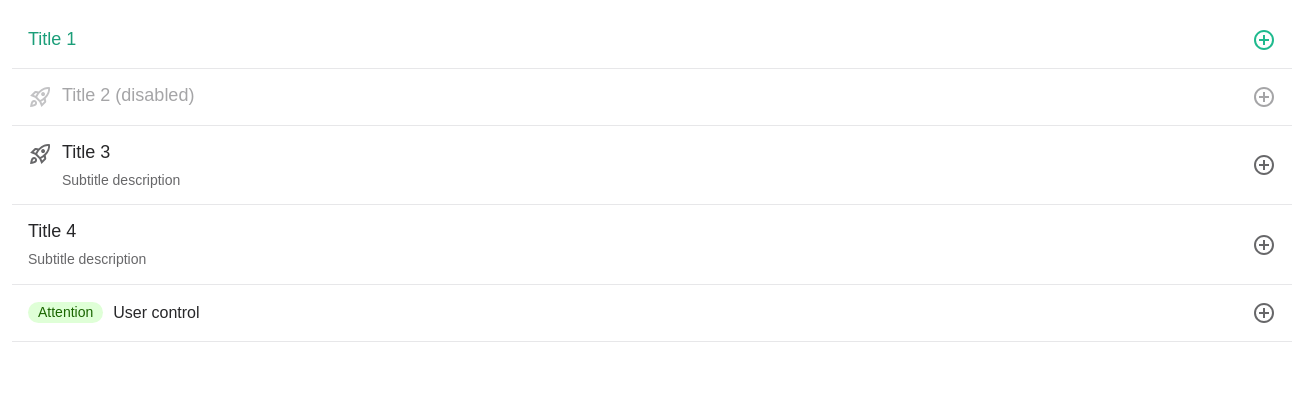
Test: variant openIcon closeIcon
The width and height of the screenshot is (1304, 412).
Expected: the number of icons with class "custom-open-icon" is 5, [1252,28,1276,52]; [1252,85,1276,109]; [1252,153,1276,177]; [1252,233,1276,257]; [1252,301,1276,325]
Click the button with class "easy_accordion-control" showing "Title 1" at point(52, 39), box [12,12,1292,68]
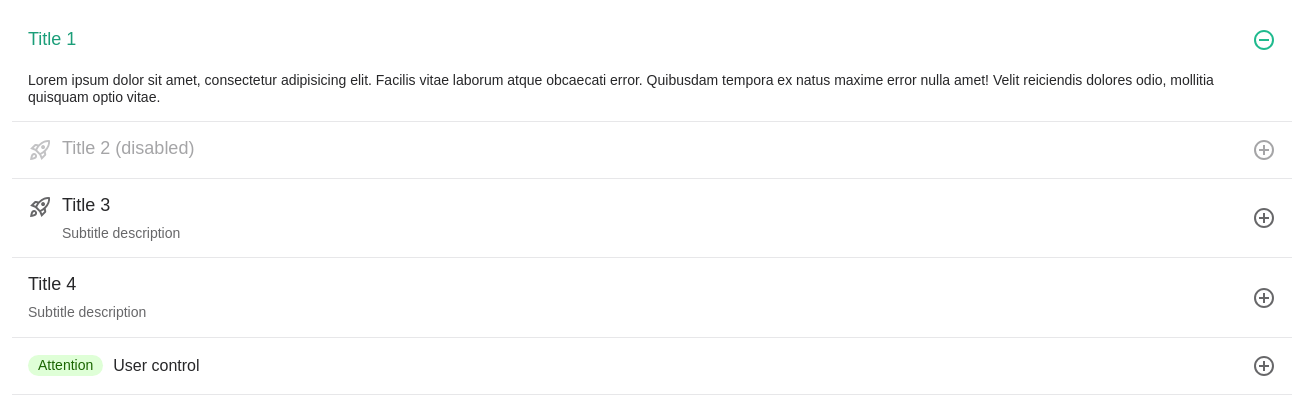
Now the icon with class "custom-close-icon" is shown, box [1252,28,1276,52]
